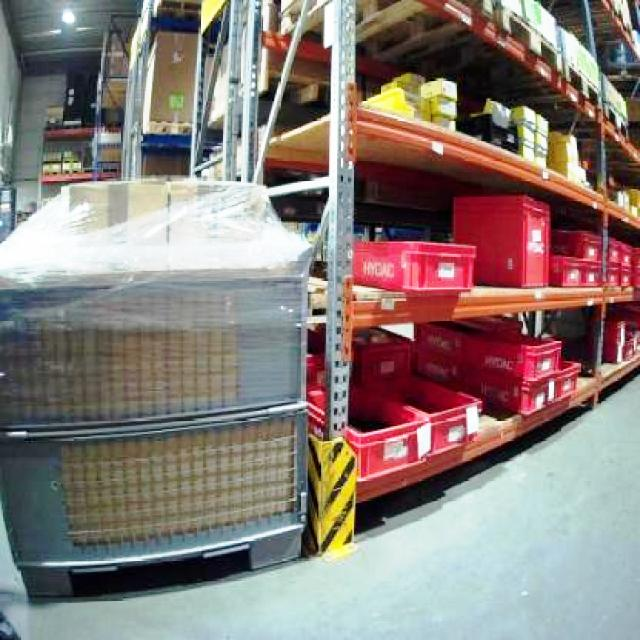ground: (0, 345, 638, 638)
pallet: (191, 0, 638, 505), (0, 175, 315, 598)
